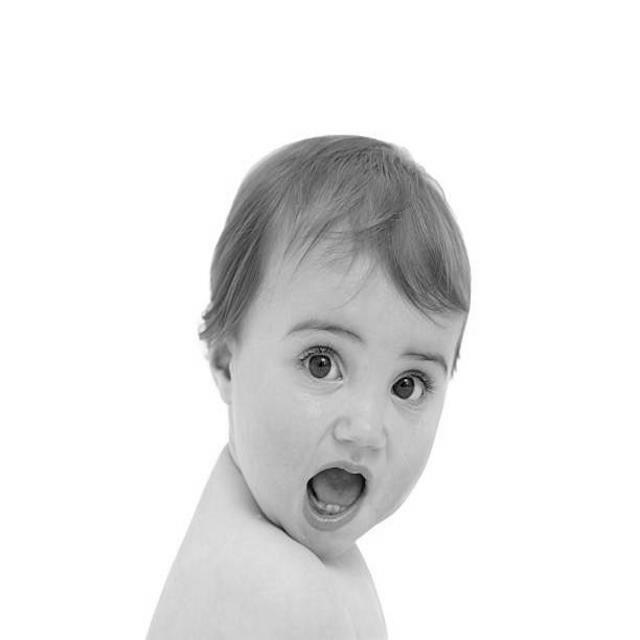Surprised: (236, 222, 458, 545)
